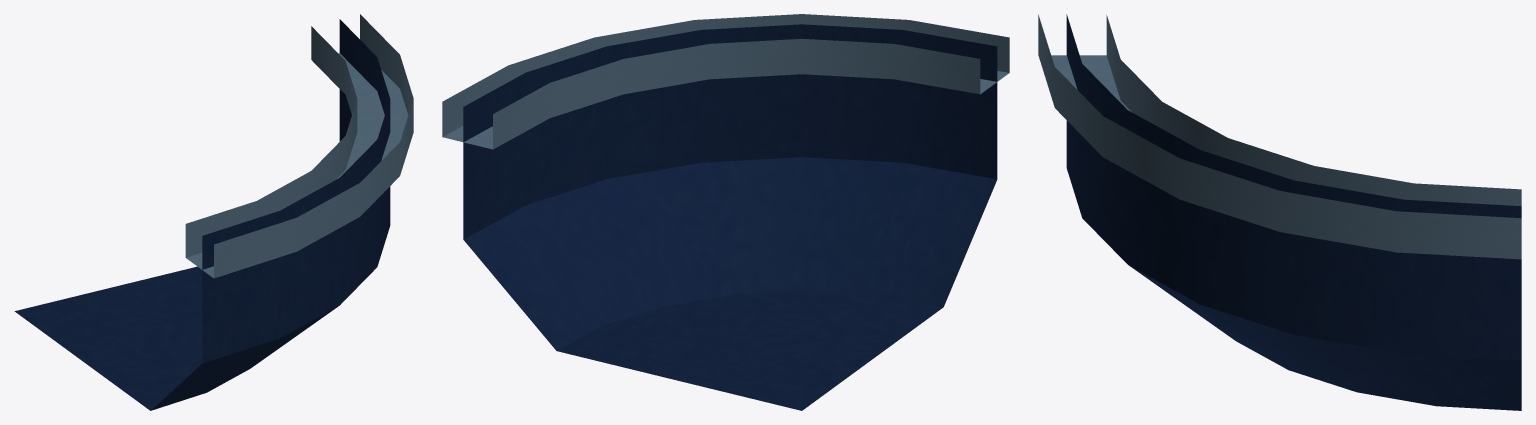
The model's file is cell_3.obj.
3 renders of one model, left to right at view 1: azimuth 30°, elevation 25°; view 2: azimuth 150°, elevation 25°; view 3: azimuth 270°, elevation 25°, orthographic. The views are drawn at different scales.
Parts seen in each view (by area): view 1: cell_3; view 2: cell_3; view 3: cell_3.
Boxes of the visible parts, x1,y1,x2,y2 form: cell_3: (14, 14, 413, 410); cell_3: (442, 14, 1009, 410); cell_3: (1038, 14, 1521, 410).
Size of the model in its own units: 0.425 by 0.25 by 0.425.
